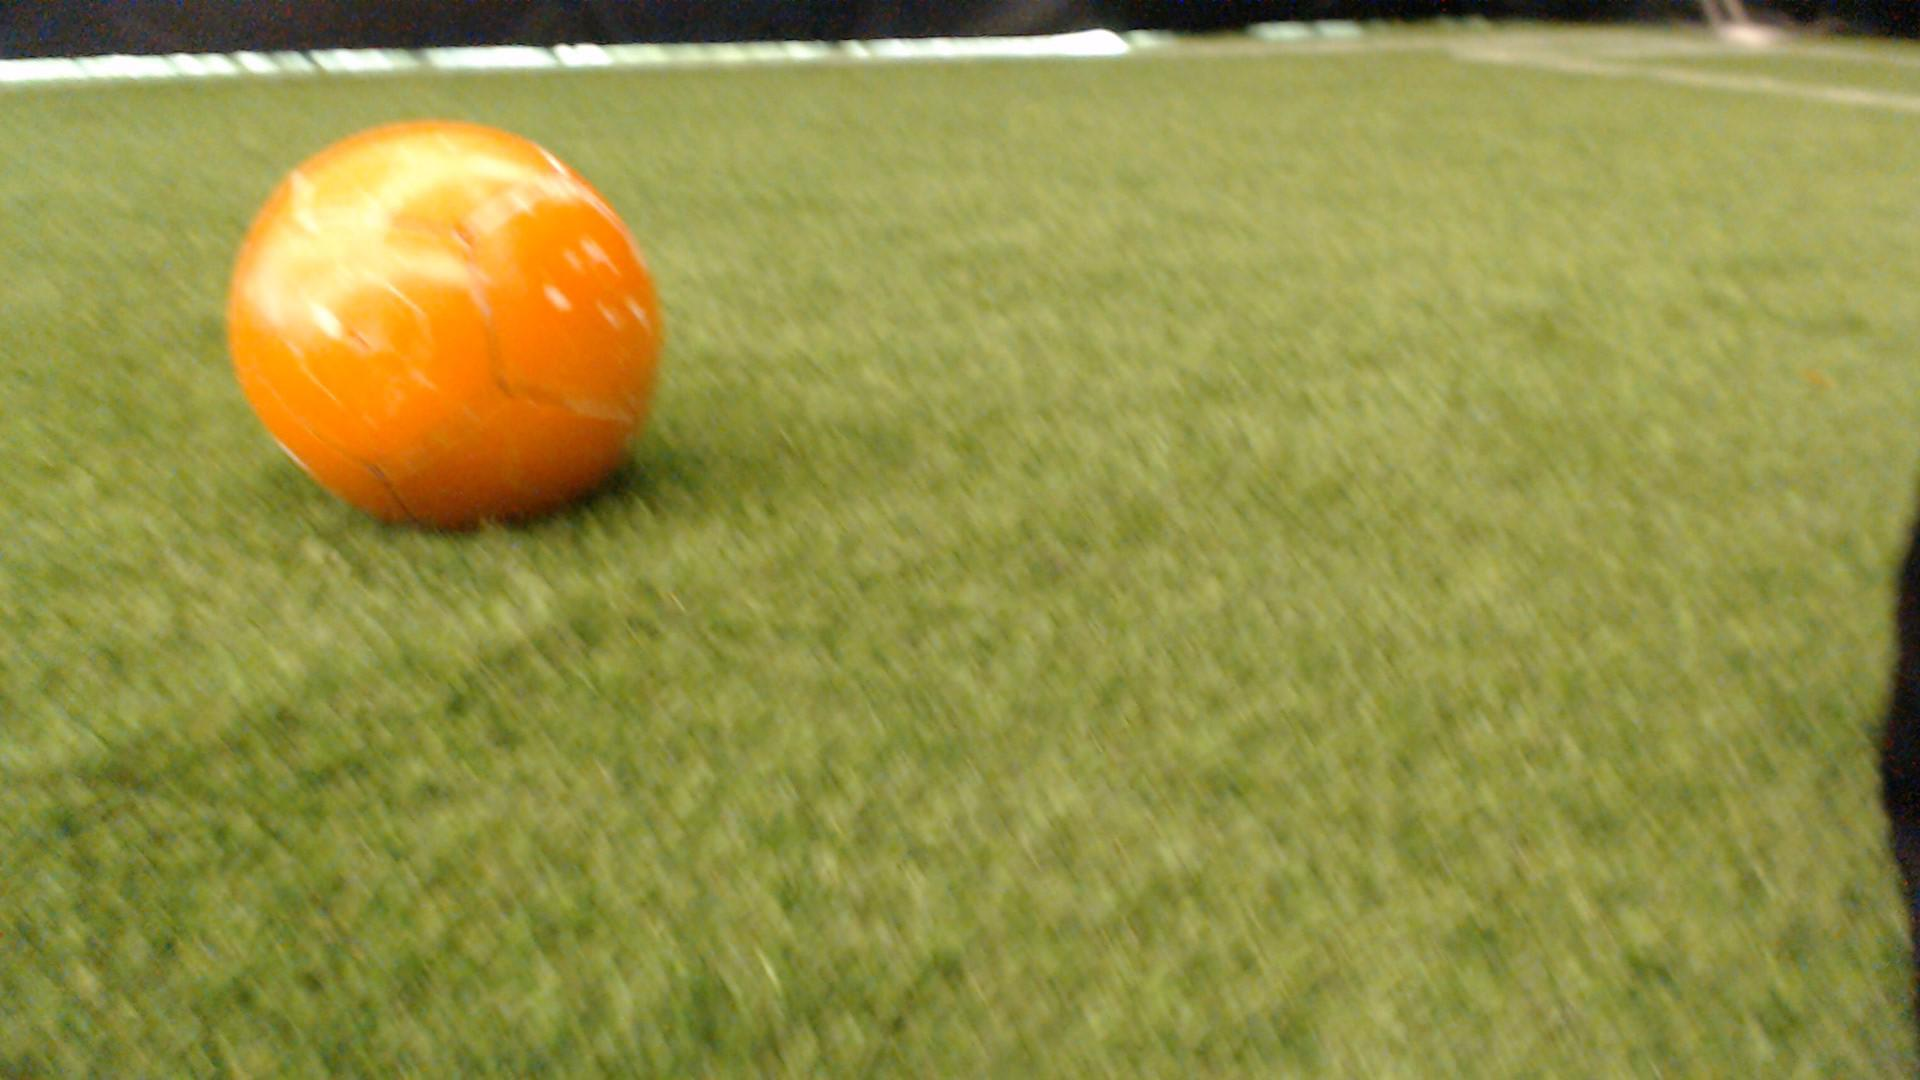bola: (204, 108, 680, 550)
